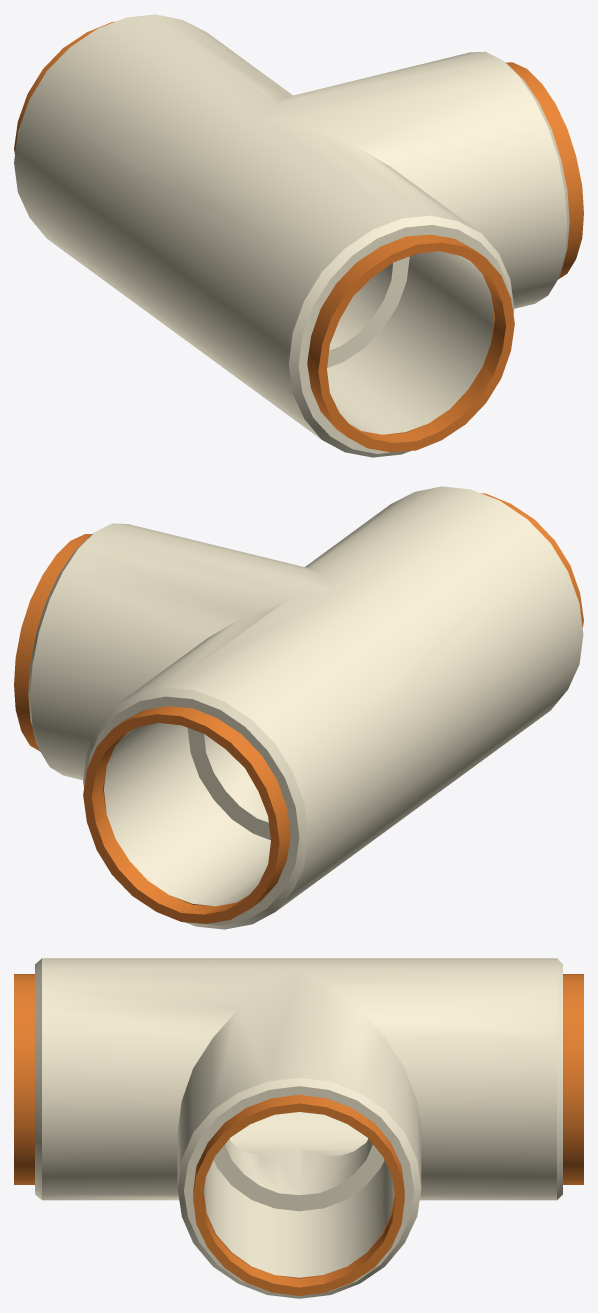
The model's file is pipes_supply__water_heater__5e030893.glb.
3 renders of one model, top to bottom at view 1: azimuth 30°, elevation 25°; view 2: azimuth 150°, elevation 25°; view 3: azimuth 270°, elevation 25°, orthographic. The views are drawn at different scales.
Visible parts, largest first — view 1: fit_tee_pipe_supply_cold_wh_etankless; view 2: fit_tee_pipe_supply_cold_wh_etankless; view 3: fit_tee_pipe_supply_cold_wh_etankless.
Boxes of the visible parts, x1,y1,x2,y2 form: fit_tee_pipe_supply_cold_wh_etankless: (14,14,583,457); fit_tee_pipe_supply_cold_wh_etankless: (14,486,583,929); fit_tee_pipe_supply_cold_wh_etankless: (14,958,583,1298).
Bounding box in the file's own units: 0.0476 × 0.0286 × 0.0668.
